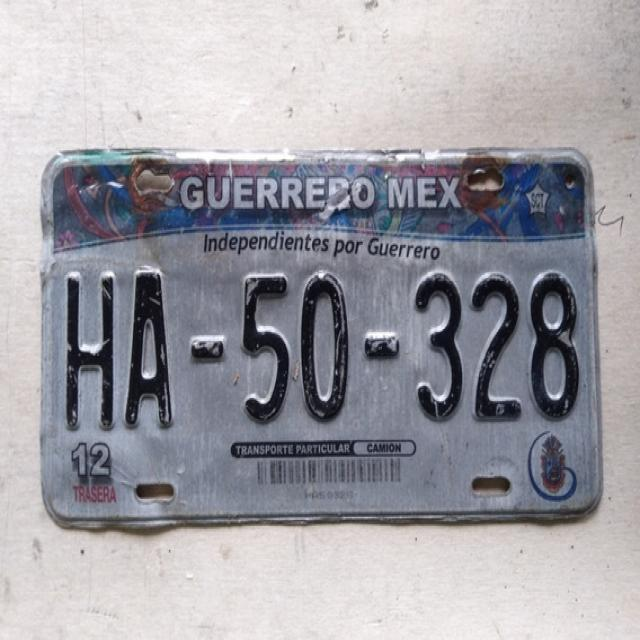placa: (45, 256, 600, 432)
